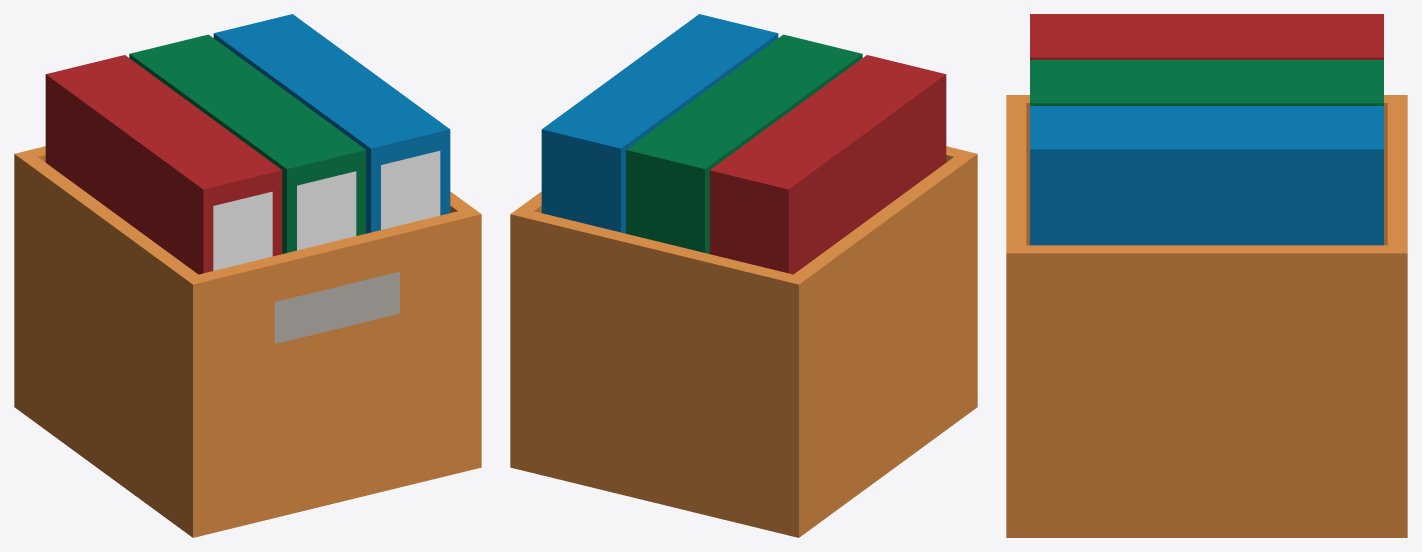
3 views of the same model, side by side, from view 1: azimuth 30°, elevation 25°; view 2: azimuth 150°, elevation 25°; view 3: azimuth 270°, elevation 25° (orthographic). The views are drawn at different scales.
Parts seen in each view (by area): view 1: FoldrBox; view 2: FoldrBox; view 3: FoldrBox.
Part boxes in pixels (x1,y1,x2,y2): FoldrBox: [14, 14, 481, 537]; FoldrBox: [510, 14, 977, 537]; FoldrBox: [1006, 14, 1407, 537].
Size of the model in its own units: 25.78 by 28.65 by 27.65.
